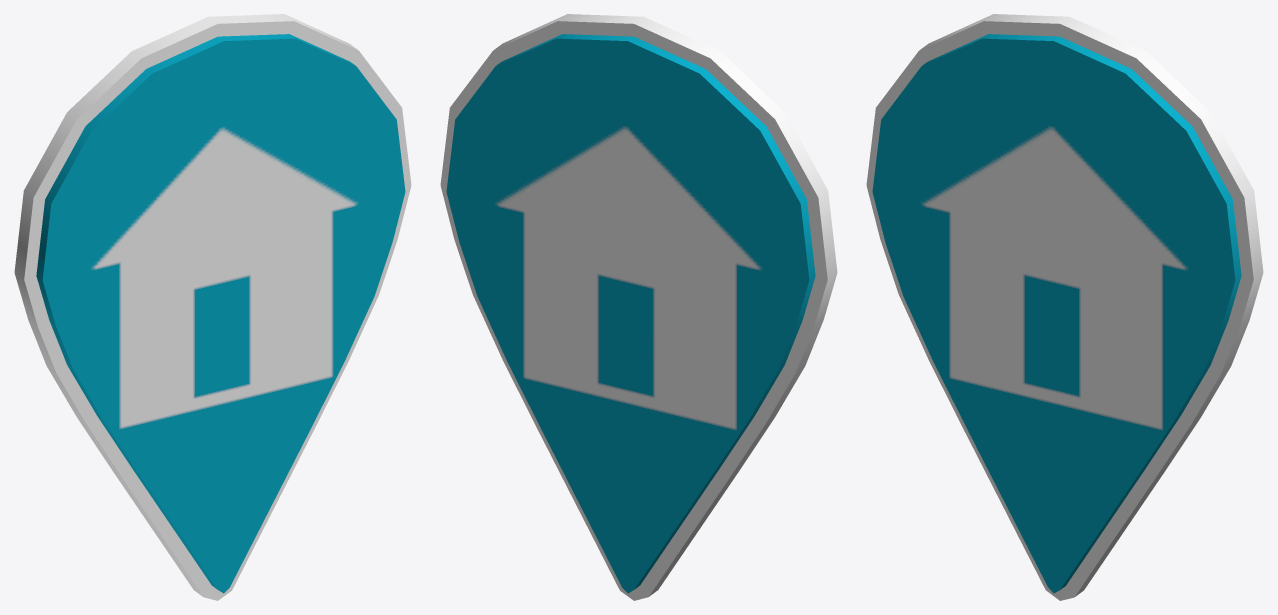
File: icons.fbx
3 renders of one model, left to right at view 1: azimuth 30°, elevation 25°; view 2: azimuth 150°, elevation 25°; view 3: azimuth 330°, elevation 25°, orthographic.
Parts seen in each view (by area): view 1: house_icon; view 2: house_icon; view 3: house_icon.
Boxes of the visible parts, x1,y1,x2,y2 form: house_icon: [14, 14, 411, 600]; house_icon: [440, 14, 837, 600]; house_icon: [866, 14, 1263, 600].
Bounding box in the file's own units: 0.0194 × 0.0276 × 0.00192.
Materials: 1 (1 with a texture image).
